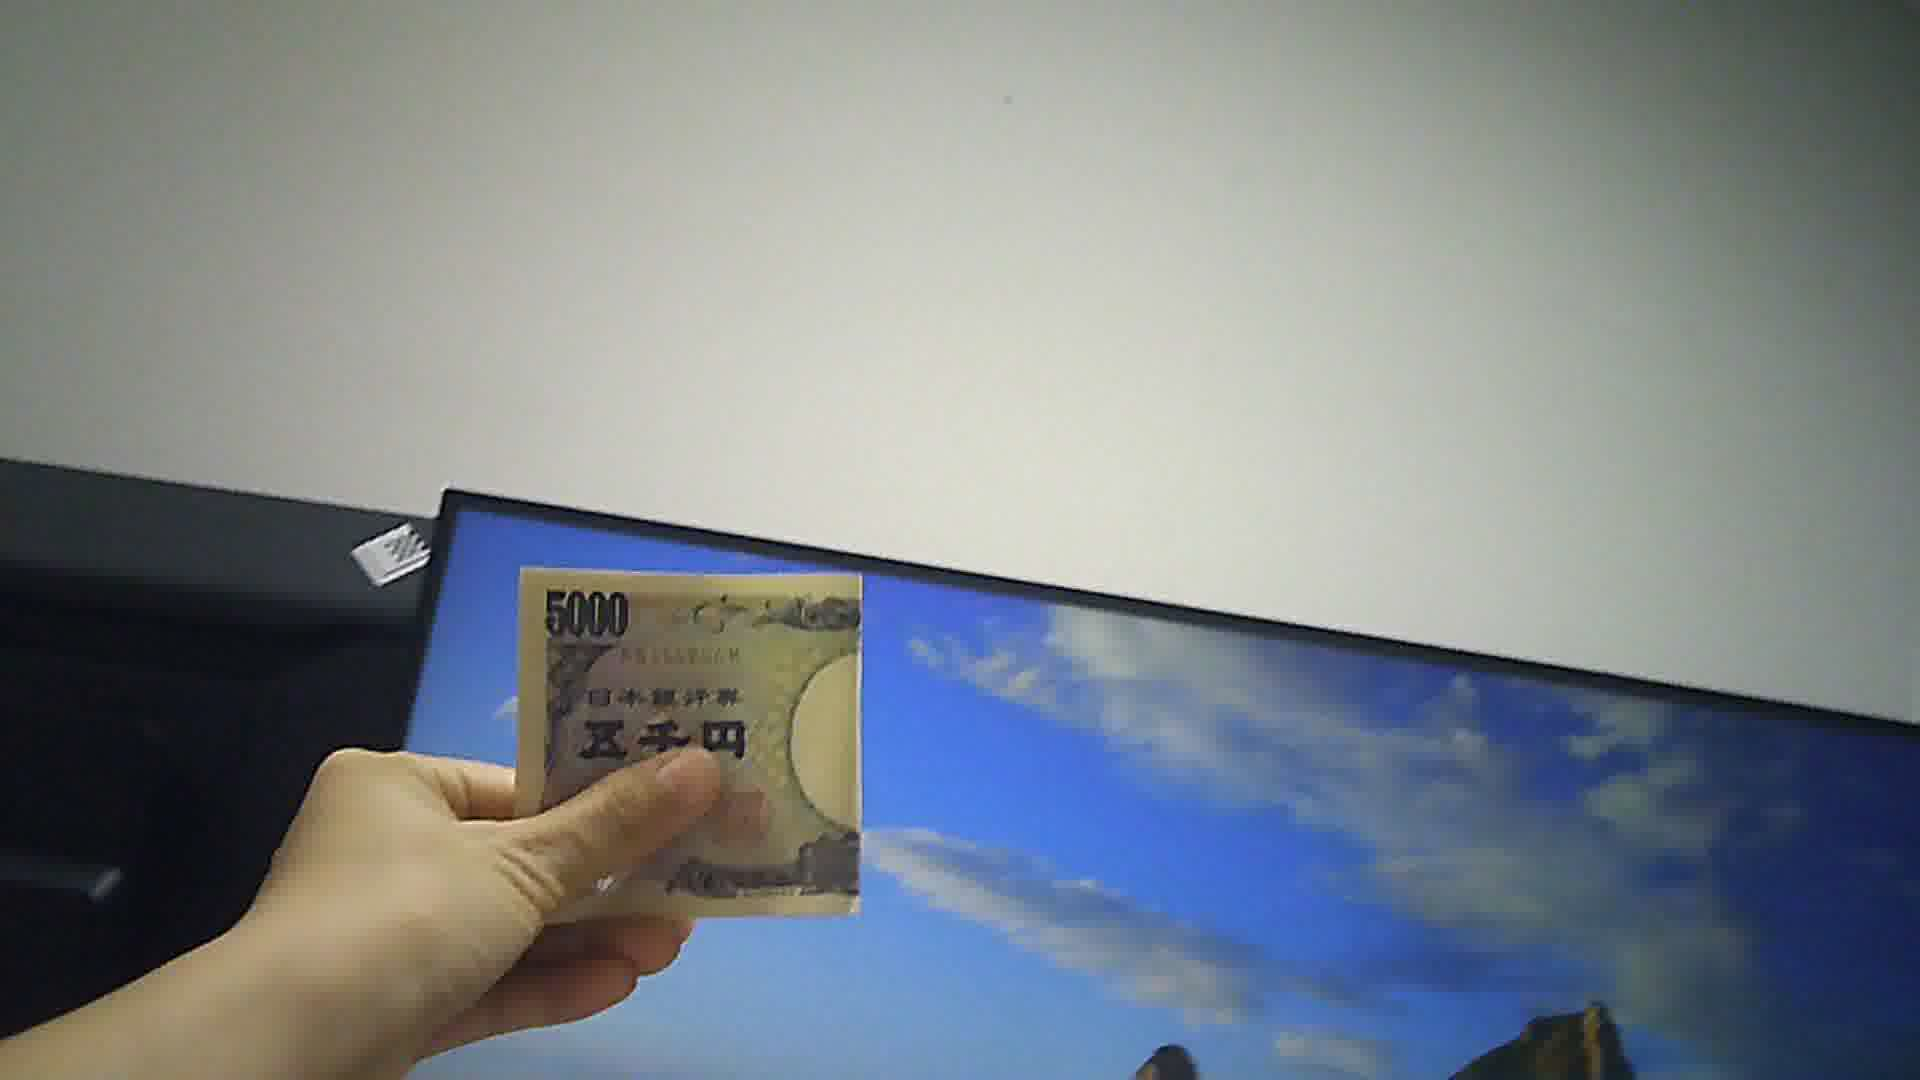5,000 Yen: (493, 555, 891, 932)
